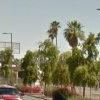Palm tree: (38, 11, 92, 59)
